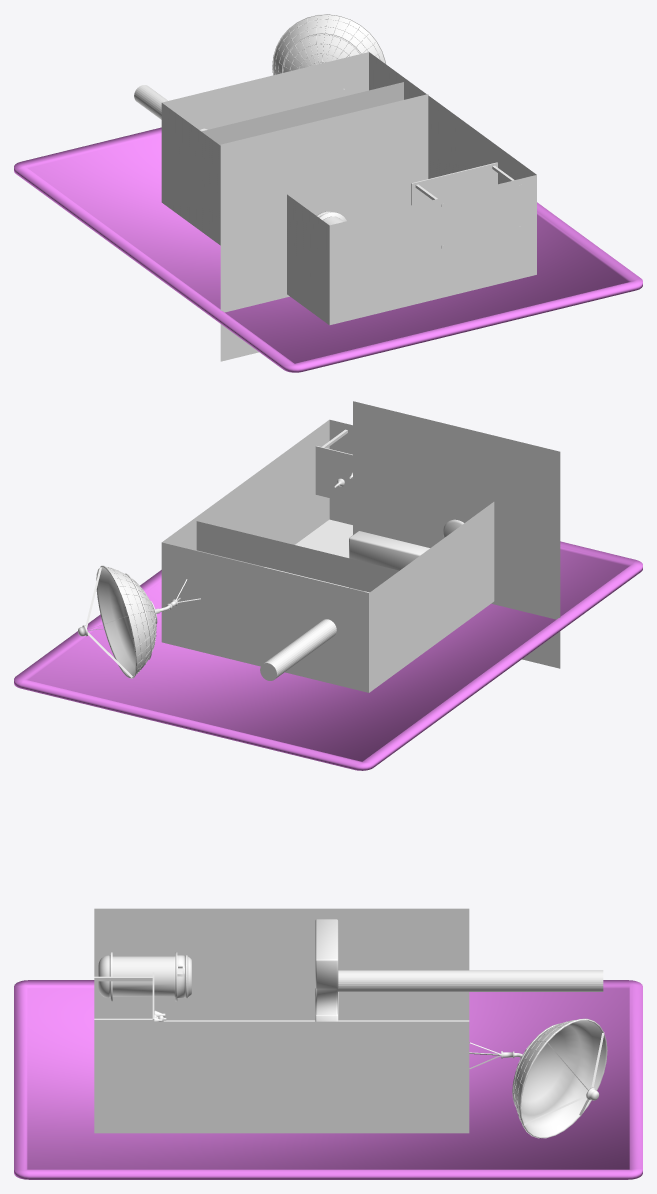
3 renders of one model, top to bottom at view 1: azimuth 30°, elevation 25°; view 2: azimuth 150°, elevation 25°; view 3: azimuth 270°, elevation 25°, orthographic. The views are drawn at different scales.
Parts seen in each view (by area): view 1: Plane; view 2: Plane; view 3: Plane.
Boxes of the visible parts, x1,y1,x2,y2 form: Plane: (14,14,642,372); Plane: (14,401,642,770); Plane: (14,908,642,1179).
Bounding box in the file's own units: 26.86 × 15.58 × 36.61.
